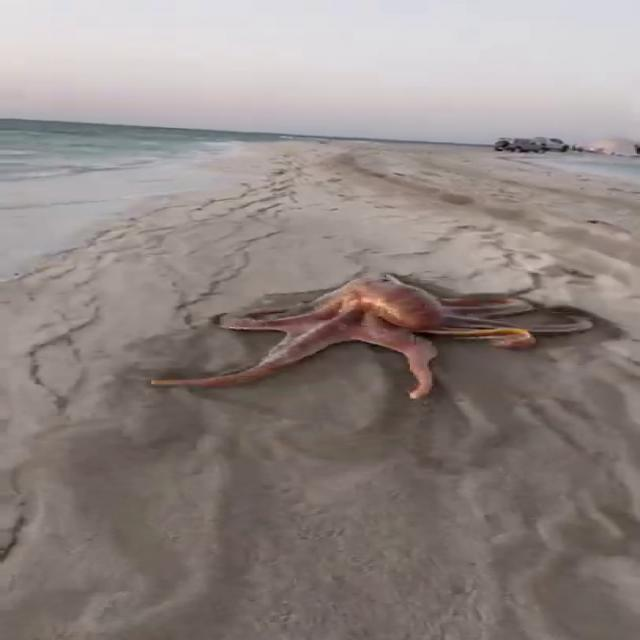octopus: (150, 277, 596, 402)
